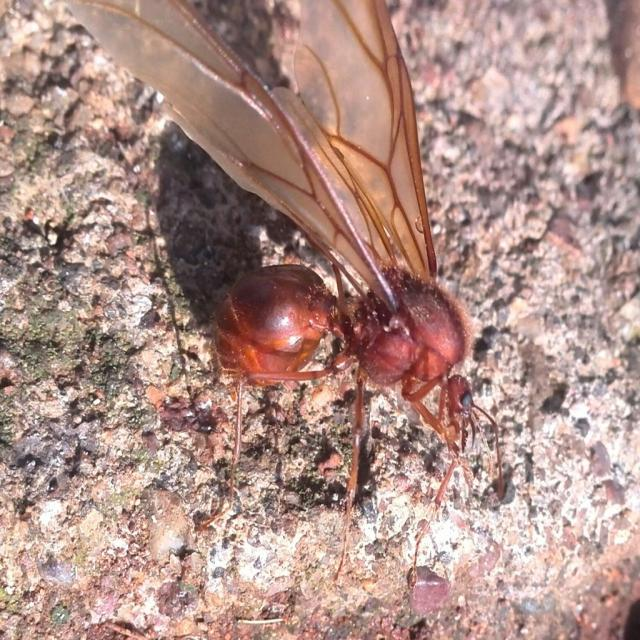Alive-Male-Alate: (61, 0, 503, 591)
